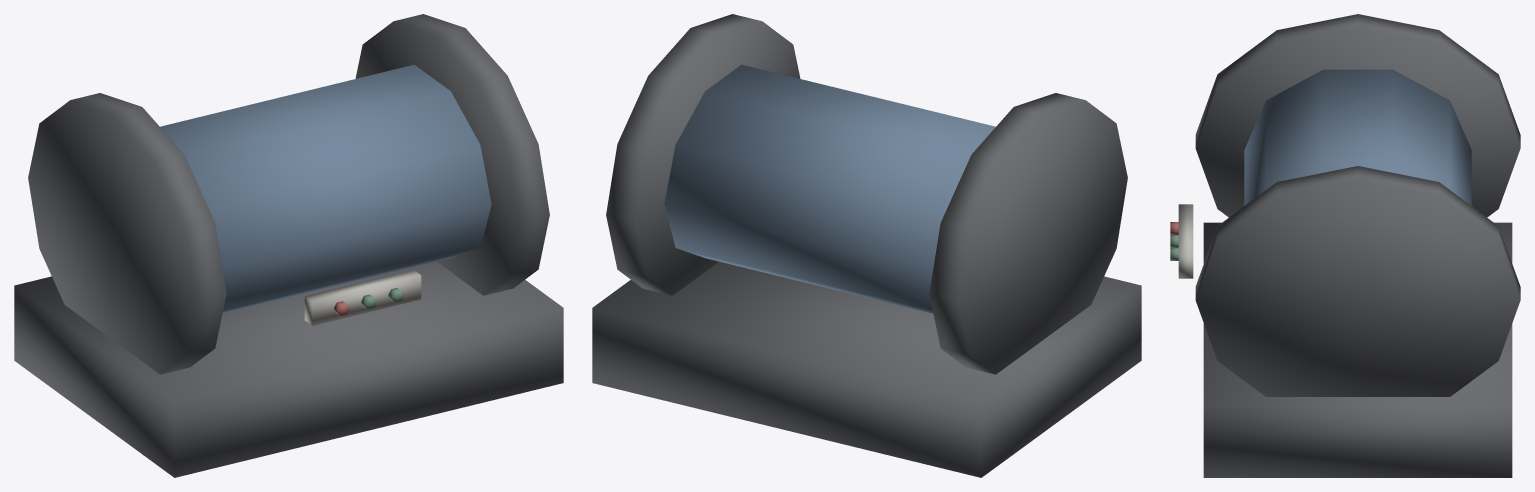
Rendered from bench_grinder__deep.glb.
3 views of the same model, side by side, from view 1: azimuth 30°, elevation 25°; view 2: azimuth 150°, elevation 25°; view 3: azimuth 270°, elevation 25° (orthographic). The views are drawn at different scales.
Parts seen in each view (by area): view 1: world; view 2: world; view 3: world.
Boxes of the visible parts, left/top/right/bottom form: world: left=14, top=14, right=563, bottom=477; world: left=592, top=14, right=1141, bottom=477; world: left=1170, top=14, right=1520, bottom=477.
Size of the model in its own units: 0.65 by 0.48 by 0.5258.
